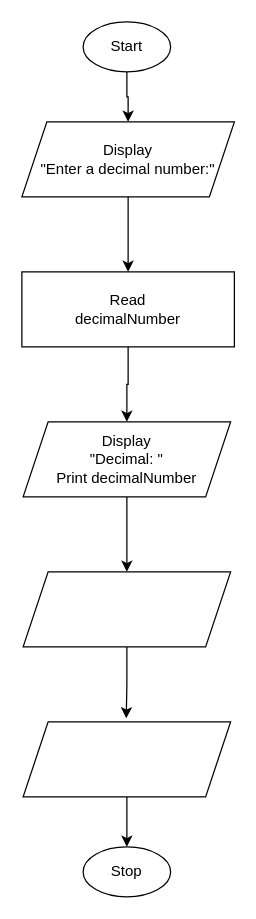
The diagram is 256 pixels wide and 919 high, and some of its shapes have lost their labels. The shapes that lost their labels are listed below. From the top down, each one's centre as x and y in pixels, then its label:
pixel 126 609: Display "Octal: " Print octal representation
pixel 126 759: Display "Hexadecimal: " Print hexadecimal representation
